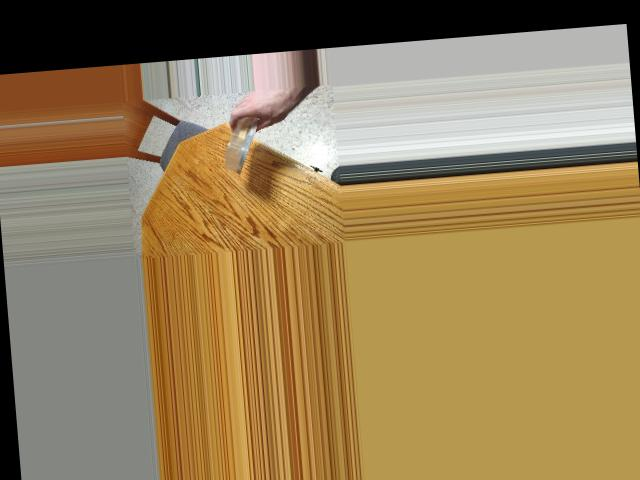cheese: (220, 108, 261, 177)
